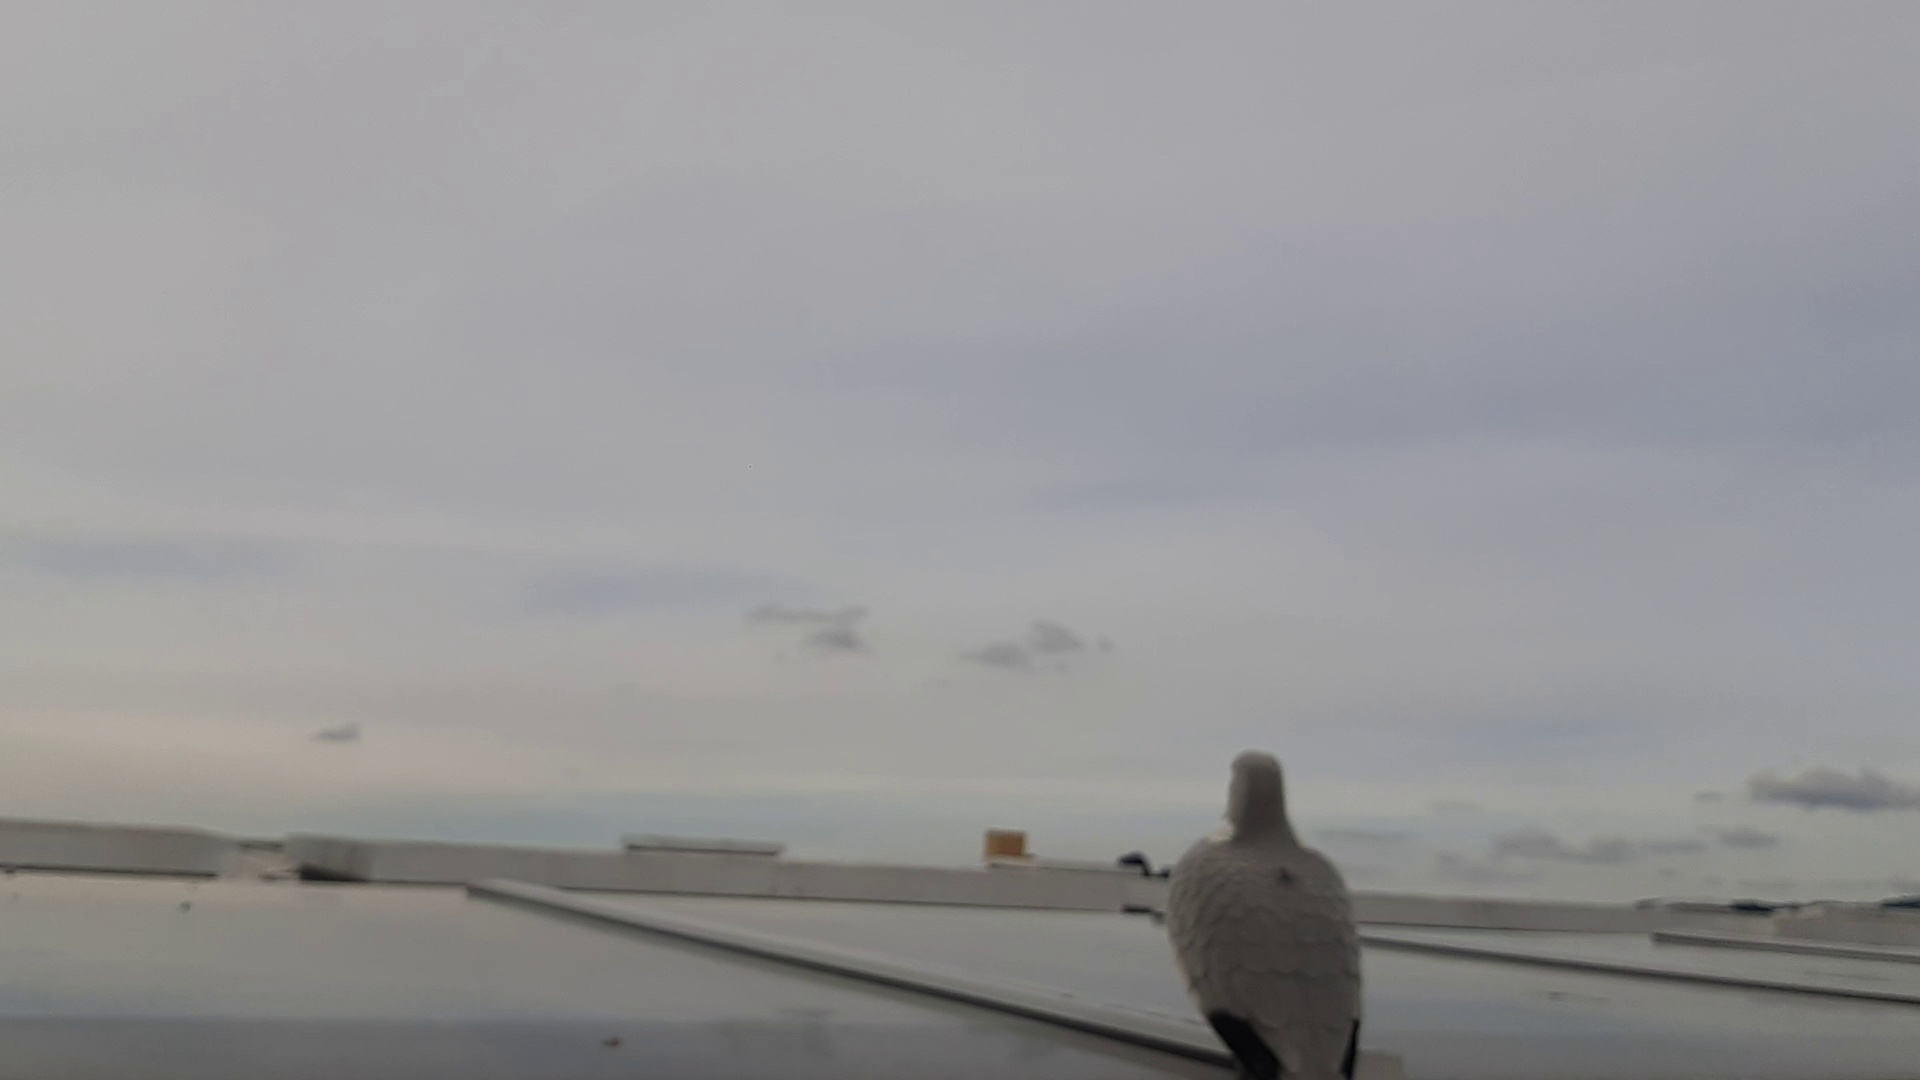Pigeon: (1155, 735, 1379, 1080)
